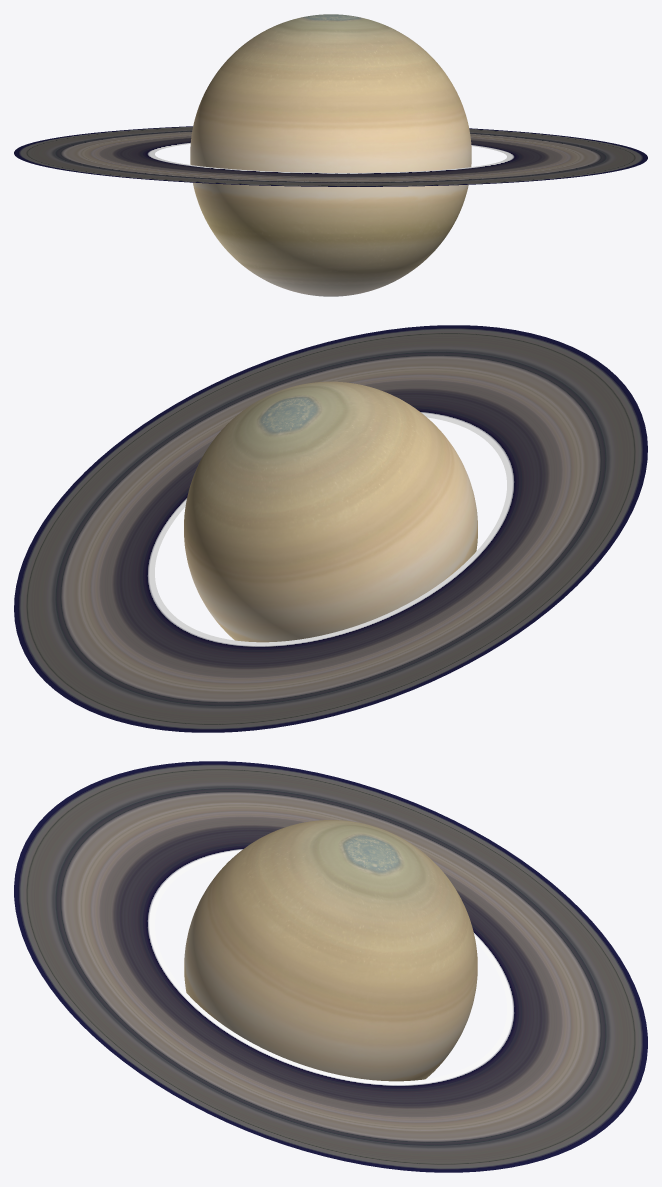
Rendered from Saturn.compressed.glb.
3 views of the same model, one above another, from view 1: azimuth 30°, elevation 25°; view 2: azimuth 150°, elevation 25°; view 3: azimuth 270°, elevation 25° (orthographic). The views are drawn at different scales.
Visible parts, largest first — view 1: Saturn, Ring; view 2: Ring, Saturn; view 3: Ring, Saturn.
Boxes of the visible parts, x1=… form: Saturn: x1=190, y1=14, x2=471, y2=296; Ring: x1=14, y1=126, x2=647, y2=186; Ring: x1=14, y1=325, x2=647, y2=732; Saturn: x1=184, y1=381, x2=477, y2=642; Ring: x1=14, y1=761, x2=647, y2=1172; Saturn: x1=184, y1=820, x2=477, y2=1081.
Bounding box in the file's own units: 4.42 × 2 × 4.3.
Materials: 2 (2 with a texture image).
